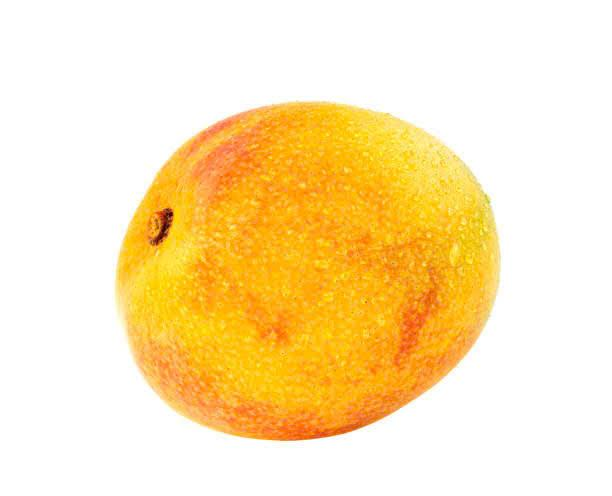mango: (96, 94, 511, 450)
